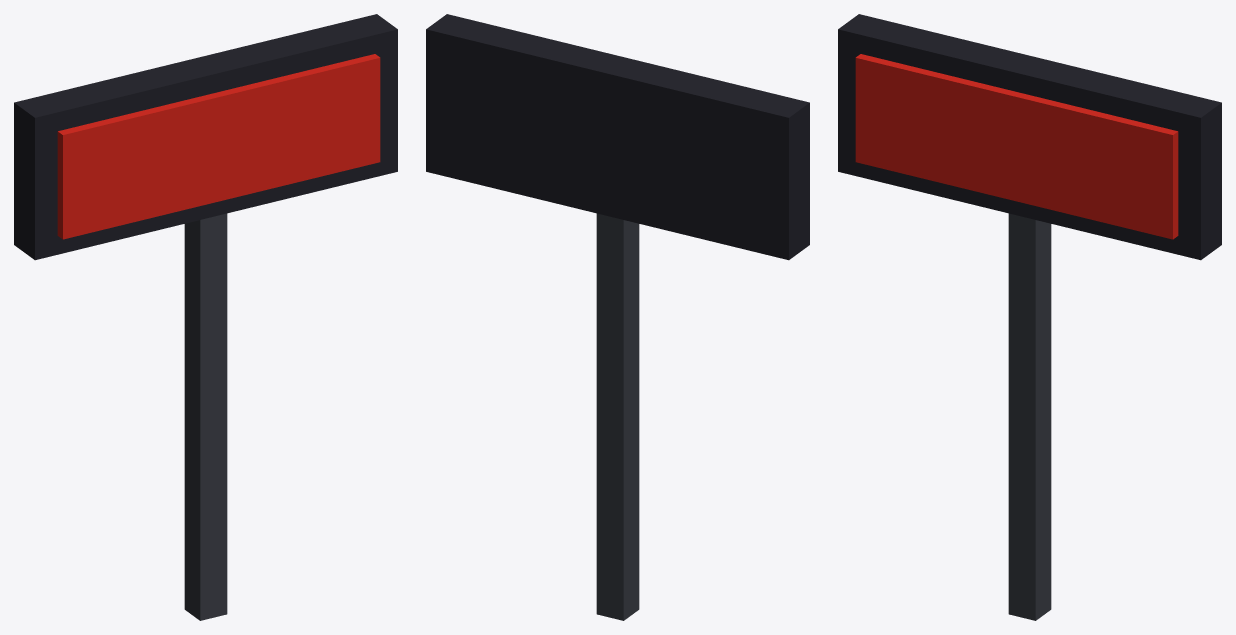
The model's file is studio_light_sign.fbx.
The picture shows the model from 3 angles, left to right: view 1: azimuth 30°, elevation 25°; view 2: azimuth 150°, elevation 25°; view 3: azimuth 330°, elevation 25°; orthographic projection.
Parts seen in each view (by area): view 1: studio_light_sign; view 2: studio_light_sign; view 3: studio_light_sign.
Boxes of the visible parts, left/top/right/bottom form: studio_light_sign: left=14, top=14, right=397, bottom=620; studio_light_sign: left=426, top=14, right=809, bottom=620; studio_light_sign: left=838, top=14, right=1221, bottom=620.
Size of the model in its own units: 0.8 by 1.15 by 0.1.
